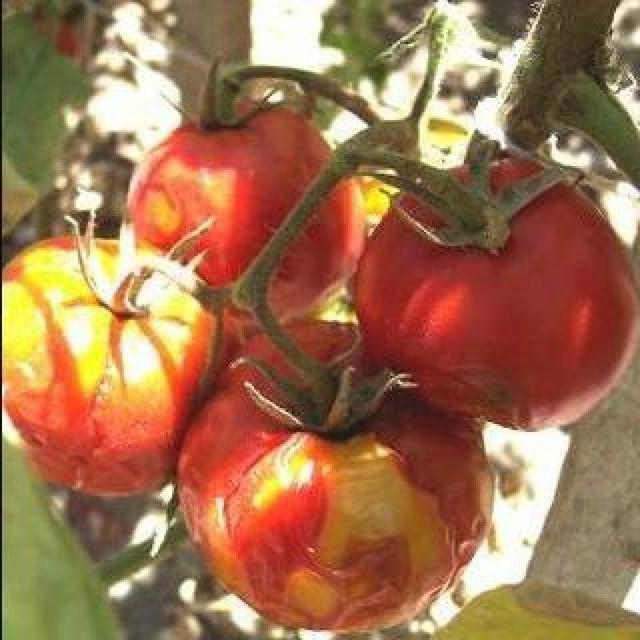Sunscald Fruit: (51, 147, 225, 347)
